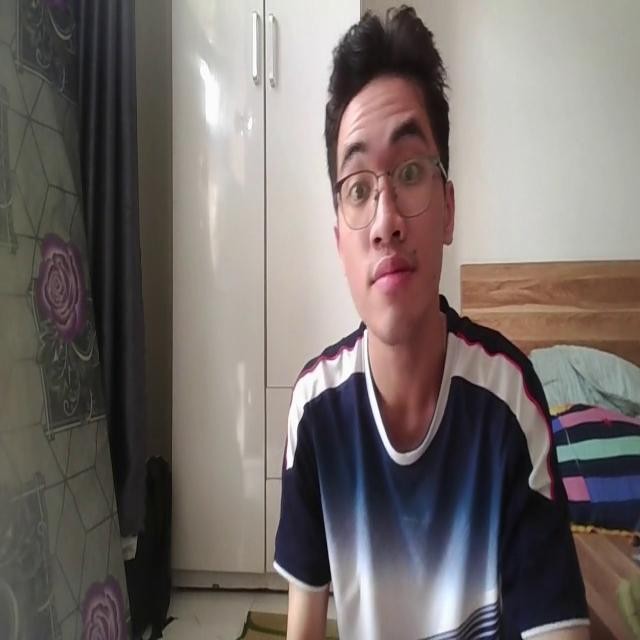student: (280, 0, 588, 640)
